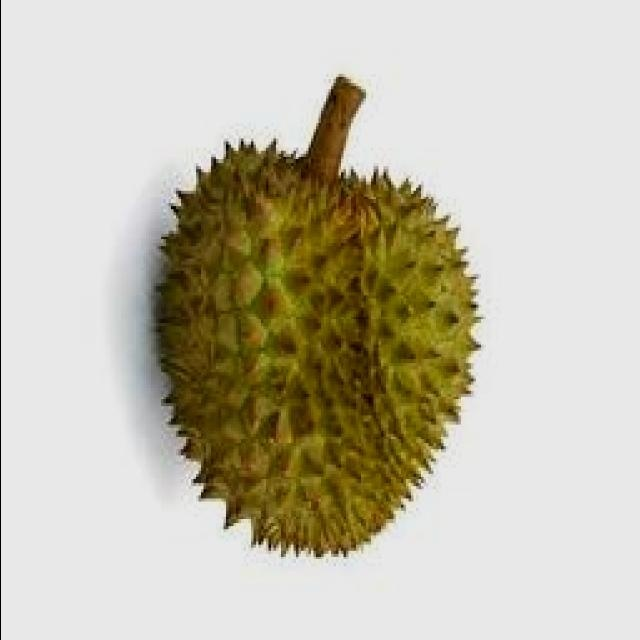agrume: (132, 120, 517, 559)
